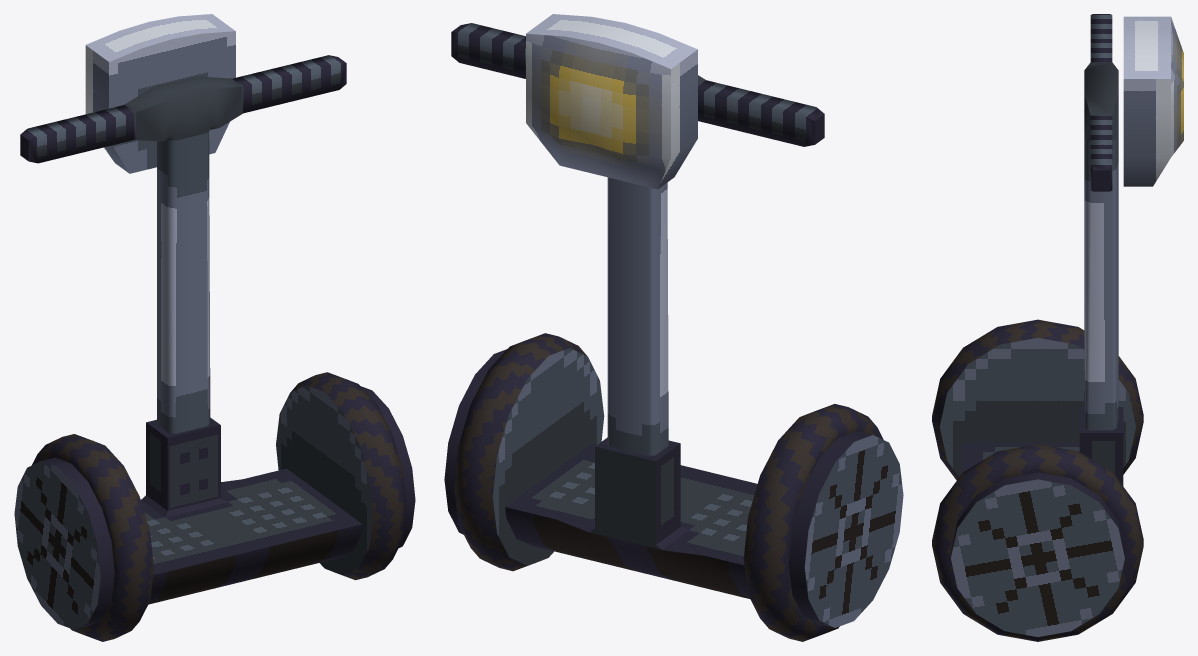
The model's file is Segway.fbx.
3 renders of one model, left to right at view 1: azimuth 30°, elevation 25°; view 2: azimuth 150°, elevation 25°; view 3: azimuth 270°, elevation 25°, orthographic. The views are drawn at different scales.
Visible parts, largest first — view 1: Segway, Wheels; view 2: Segway, Wheels; view 3: Segway, Wheels.
Boxes of the visible parts, <box> form: Segway: <box>20,14,373,604</box>; Wheels: <box>14,372,415,641</box>; Segway: <box>451,14,824,598</box>; Wheels: <box>444,333,903,641</box>; Segway: <box>939,14,1183,485</box>; Wheels: <box>932,319,1143,641</box>.
Bounding box in the file's own units: 377 × 603 × 256.
1 material, 1 textured.
